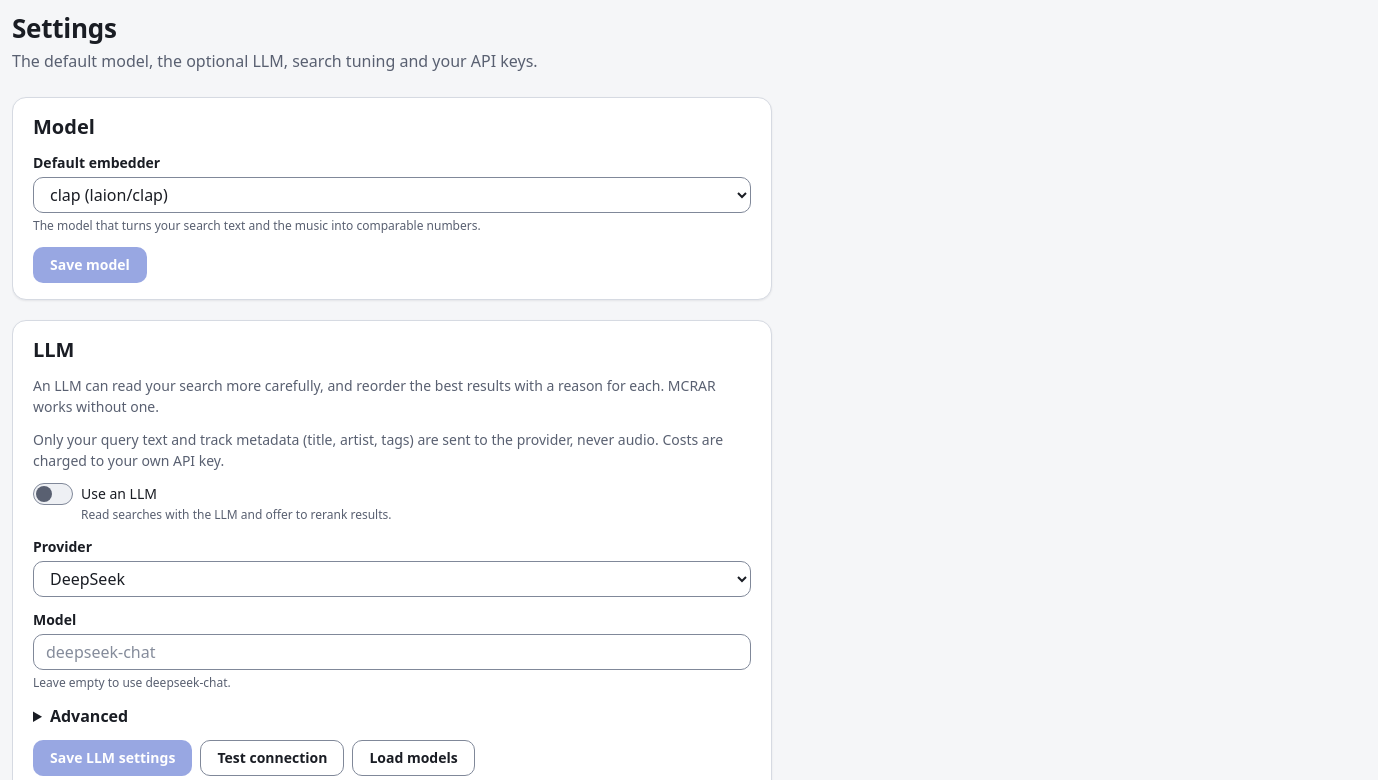
Scenario: Settings: model › saves the chosen embedder
Select "muq-mulan (OpenMuQ/MuQ-MuLan)" in the dropdown labelled "Default embedder" at {"x": 392, "y": 194}, box left=33, top=176, right=751, bottom=212
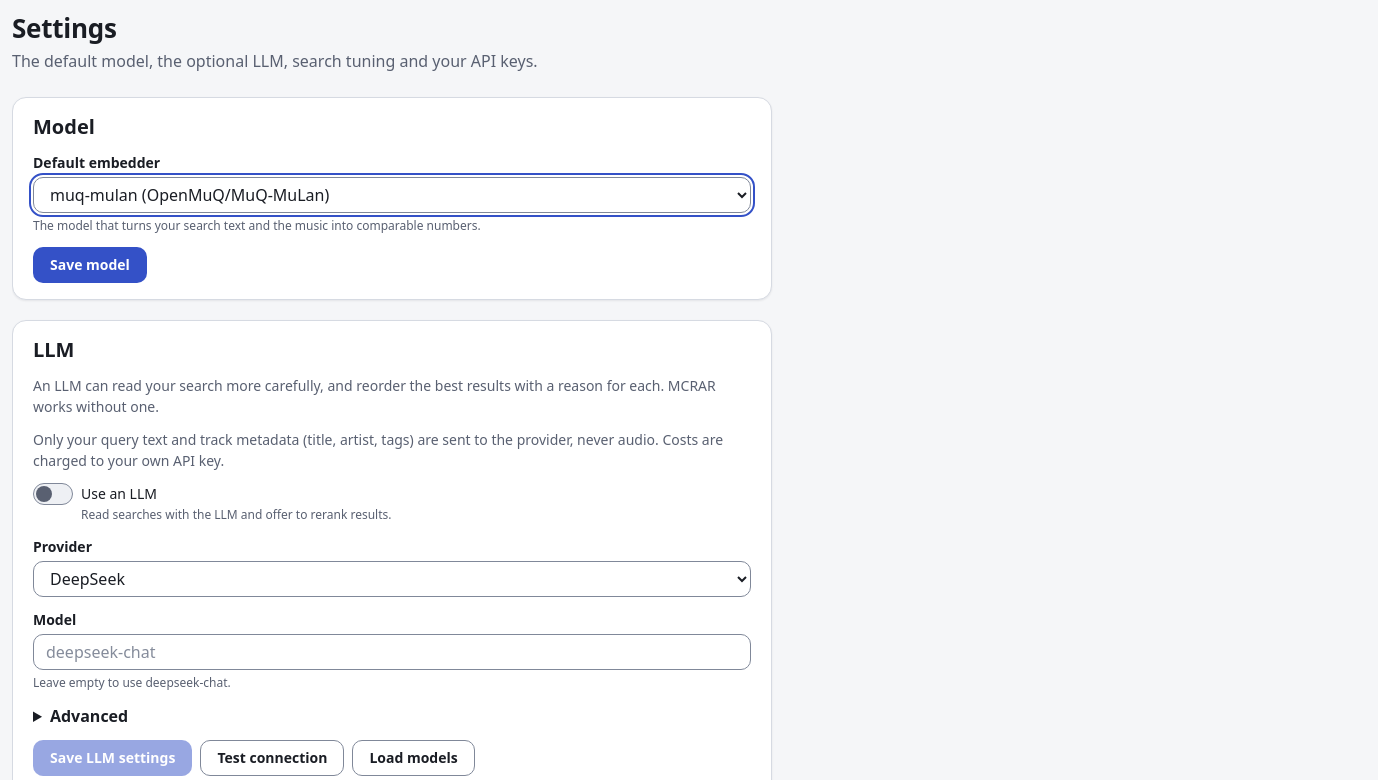
Click the button "Save model" at {"x": 90, "y": 264}, box left=33, top=246, right=147, bottom=282
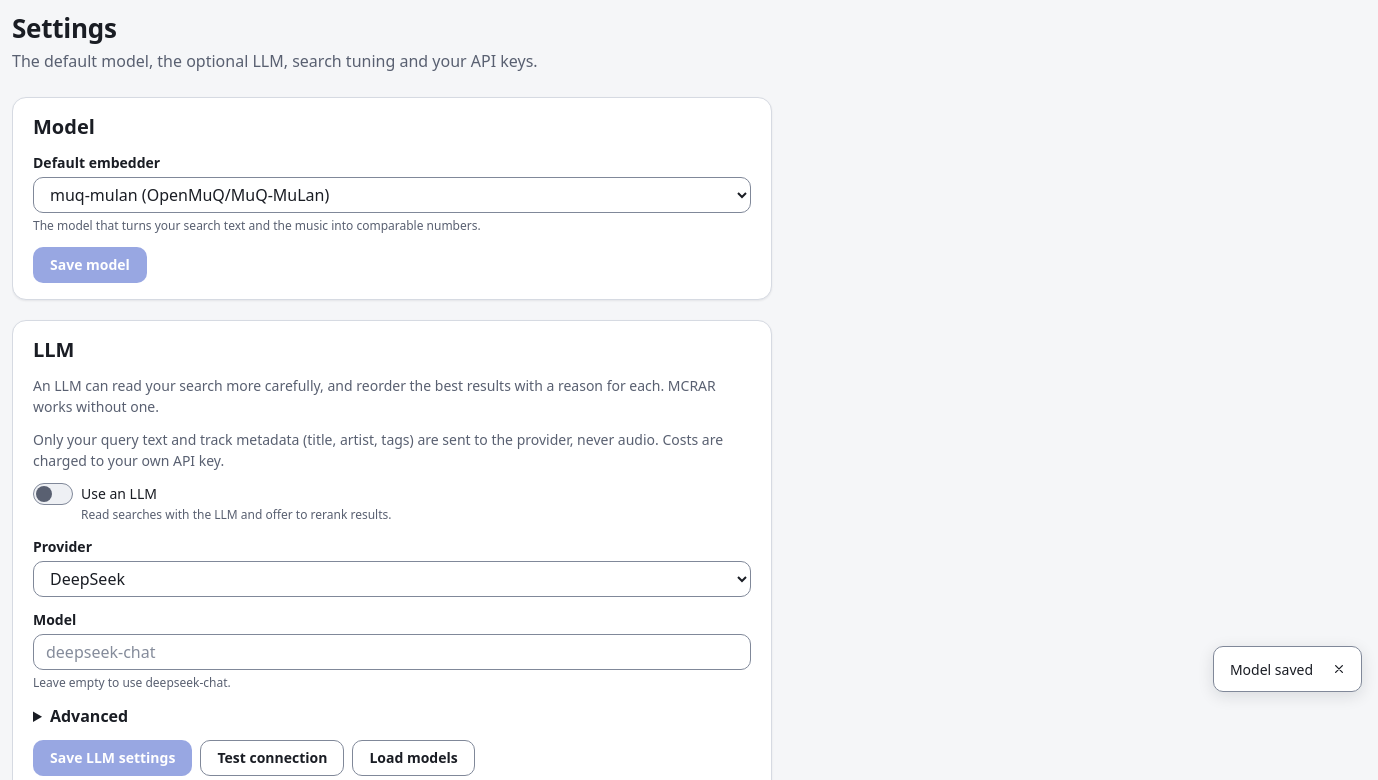
Now the button "Save model" is disabled, box left=33, top=246, right=147, bottom=282
